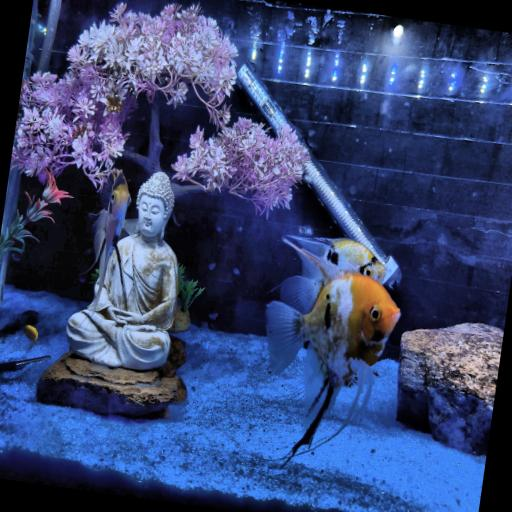Fish: (266, 241, 399, 456), (90, 170, 130, 312), (287, 236, 385, 284), (24, 325, 37, 347)
